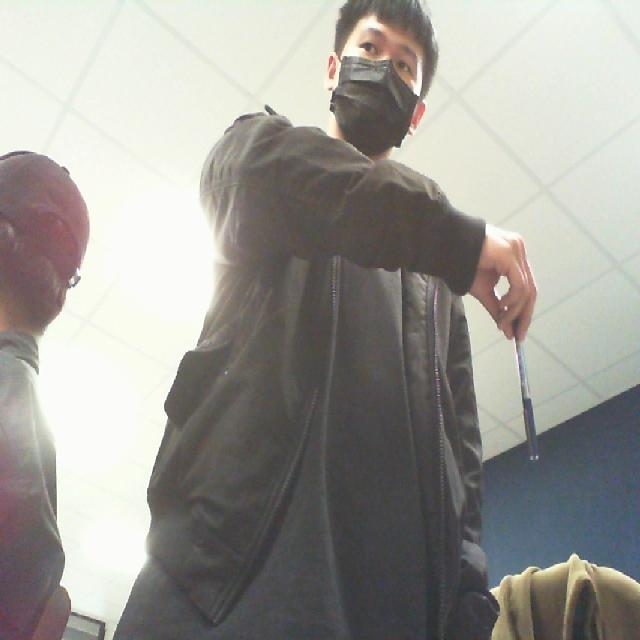Pen: (498, 297, 553, 484)
